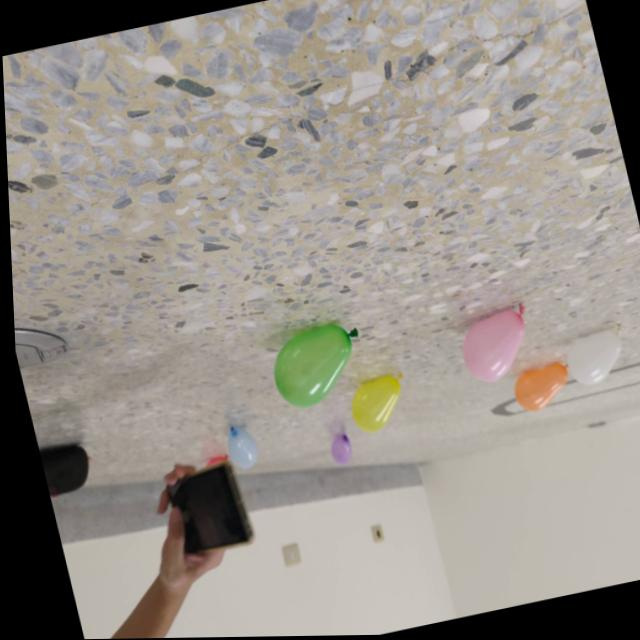other: (260, 320, 370, 414), (451, 300, 539, 389), (339, 371, 414, 439), (559, 325, 630, 392), (506, 364, 573, 415), (220, 424, 260, 475), (323, 434, 353, 468)
